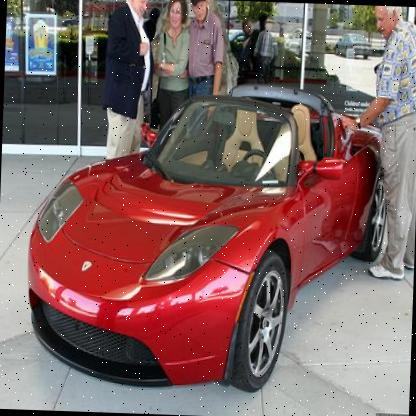car: (24, 90, 392, 398)
person: (354, 5, 416, 283), (90, 0, 157, 166), (148, 0, 194, 123), (184, 0, 229, 100)
